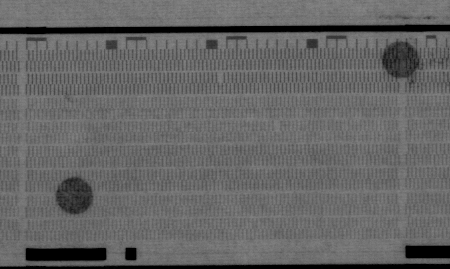Broken hole: (271, 119, 283, 134), (215, 71, 227, 85)
